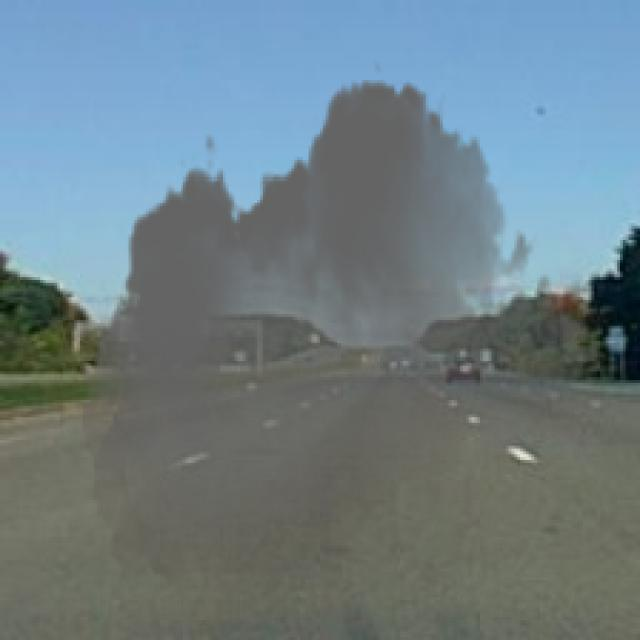smoke: (83, 60, 603, 614)
